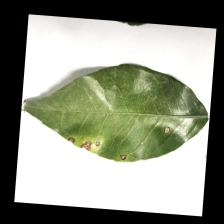canker: (60, 115, 176, 167)
